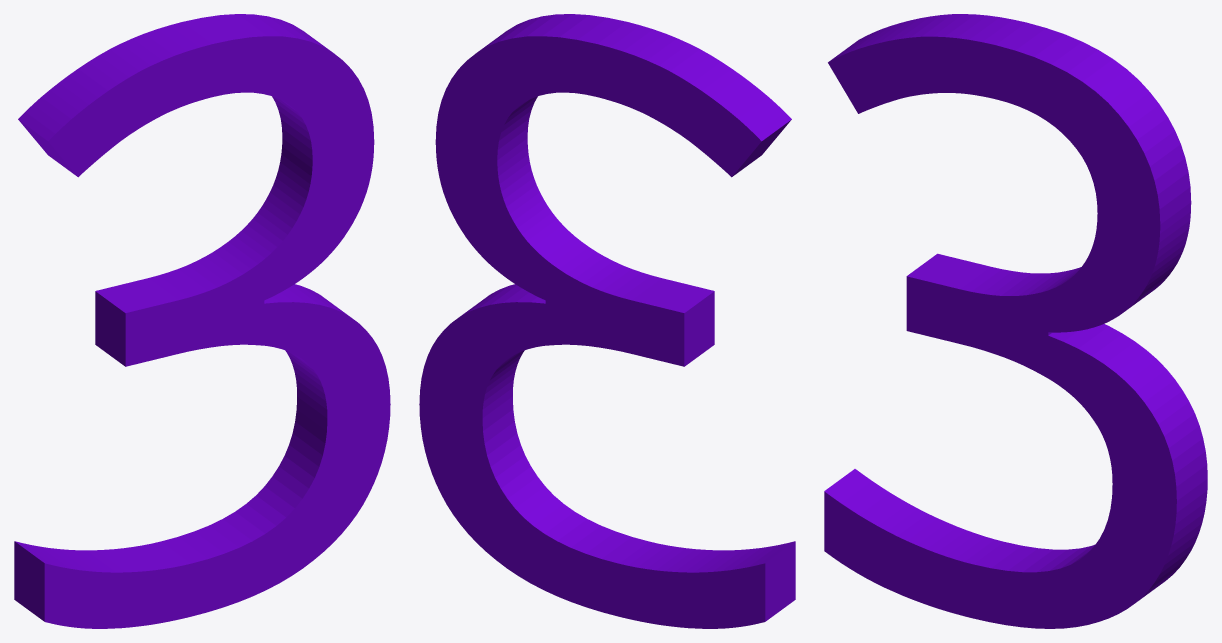
Rendered from 3d-number-3.glb.
3 renders of one model, left to right at view 1: azimuth 30°, elevation 25°; view 2: azimuth 150°, elevation 25°; view 3: azimuth 330°, elevation 25°, orthographic. The views are drawn at different scales.
Parts seen in each view (by area): view 1: Mesh_Mesh_head_geo.001_lambert2SG.001; view 2: Mesh_Mesh_head_geo.001_lambert2SG.001; view 3: Mesh_Mesh_head_geo.001_lambert2SG.001.
Boxes of the visible parts, x1,y1,x2,y2 form: Mesh_Mesh_head_geo.001_lambert2SG.001: (14,14,390,628); Mesh_Mesh_head_geo.001_lambert2SG.001: (419,14,795,628); Mesh_Mesh_head_geo.001_lambert2SG.001: (824,14,1207,628).
Bounding box in the file's own units: 0.0329 × 0.0516 × 0.005.
